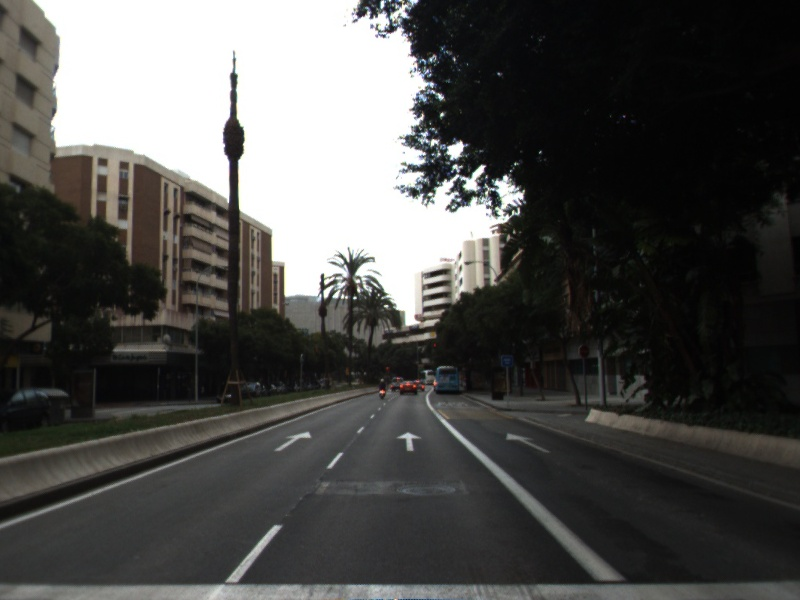STRAIGHT: (504, 431, 553, 455), (272, 429, 314, 453), (394, 430, 424, 453)
